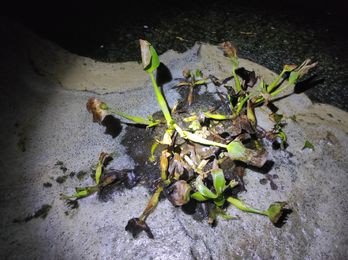water_hyacinth: (78, 36, 320, 231)
